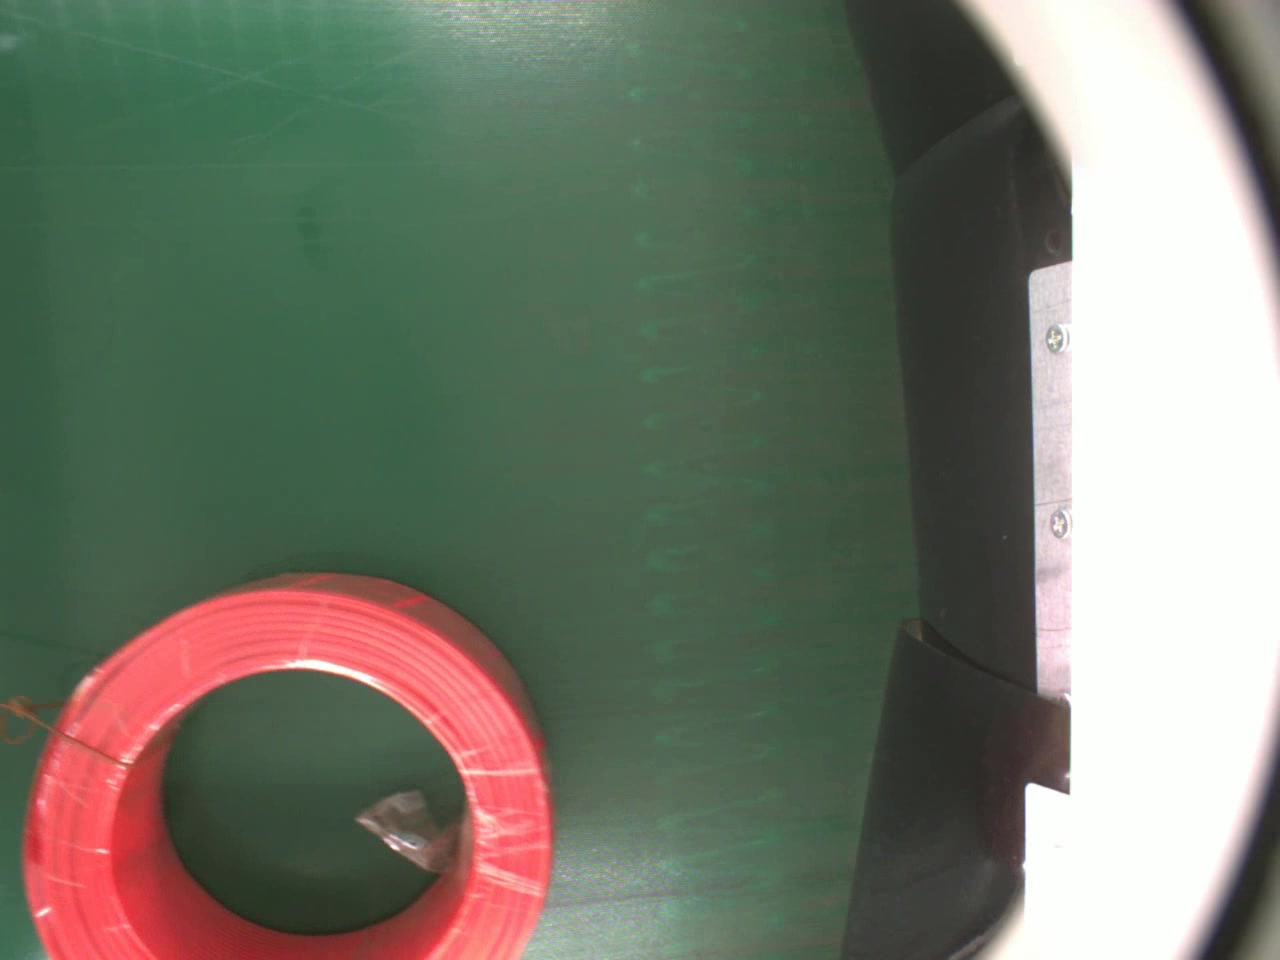red: (23, 567, 552, 960)
